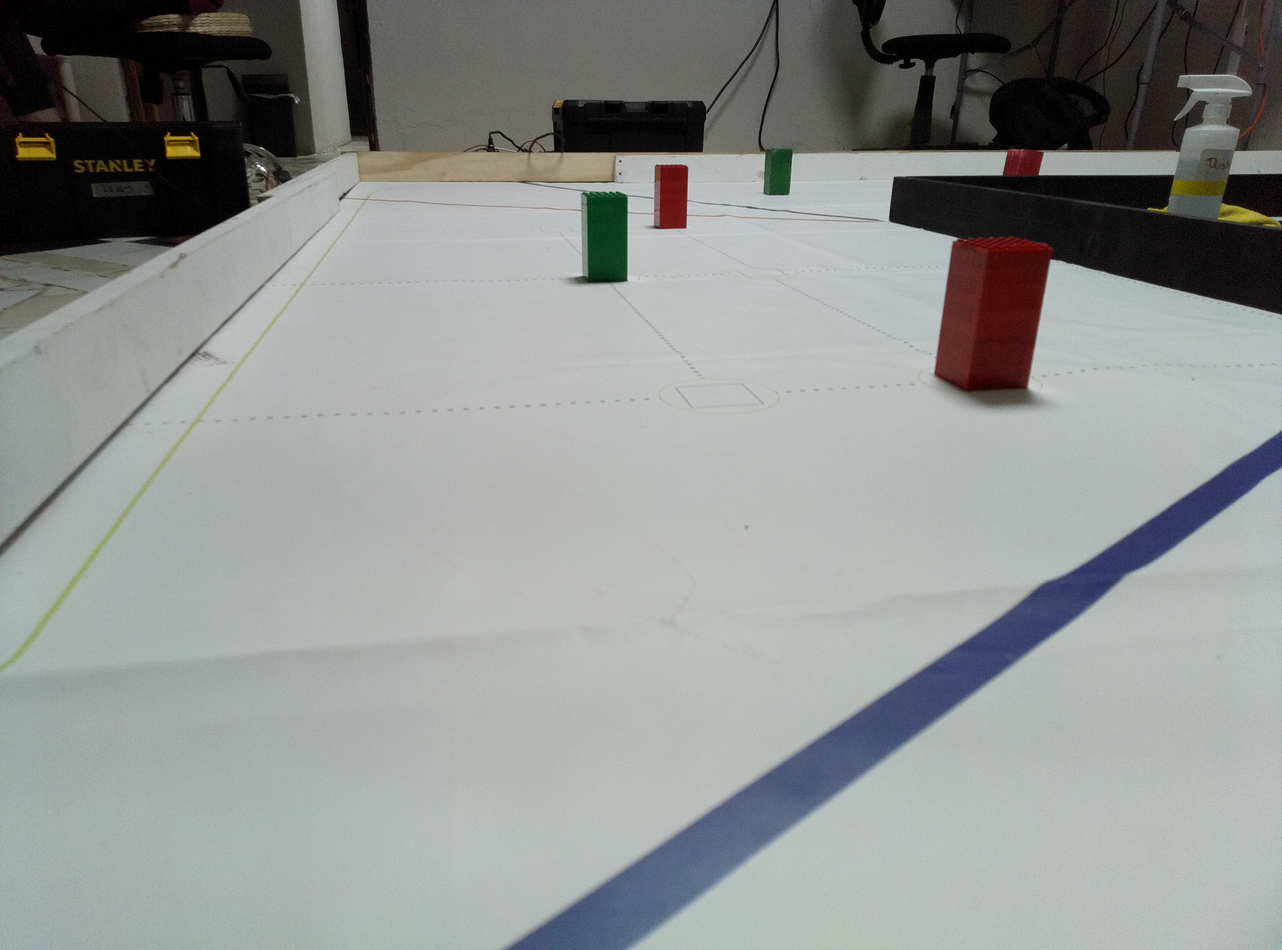greenbox: (579, 190, 629, 283), (763, 147, 794, 196)
redbox: (933, 233, 1055, 394), (653, 164, 689, 230), (1000, 149, 1046, 176)
